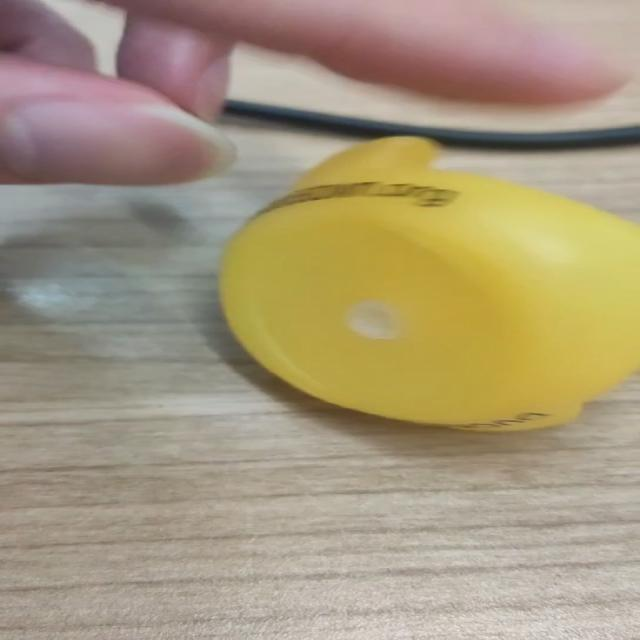rubber-duck: (219, 136, 638, 428)
